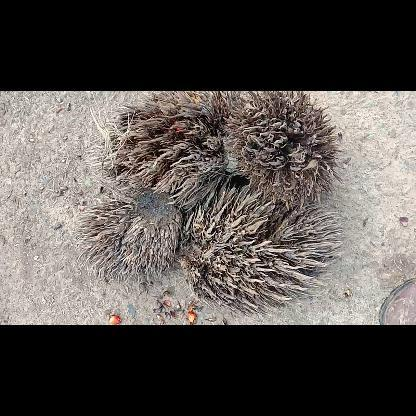Janjang kosong: (184, 188, 340, 314), (87, 91, 242, 205), (225, 91, 343, 209), (75, 190, 181, 282)
